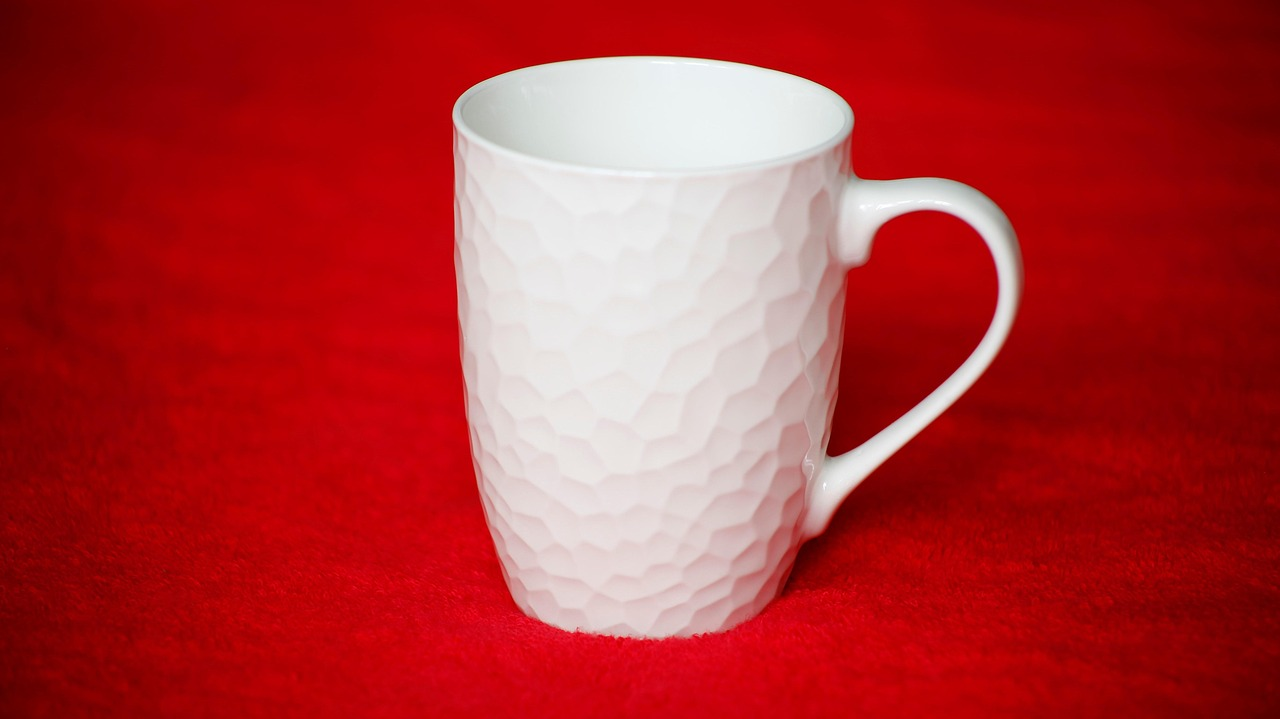mug: (411, 49, 1059, 638)
